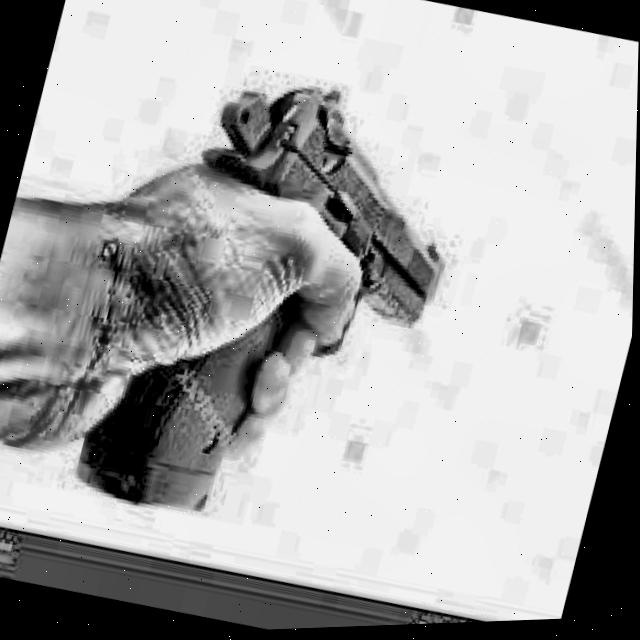pistol: (39, 18, 516, 580)
